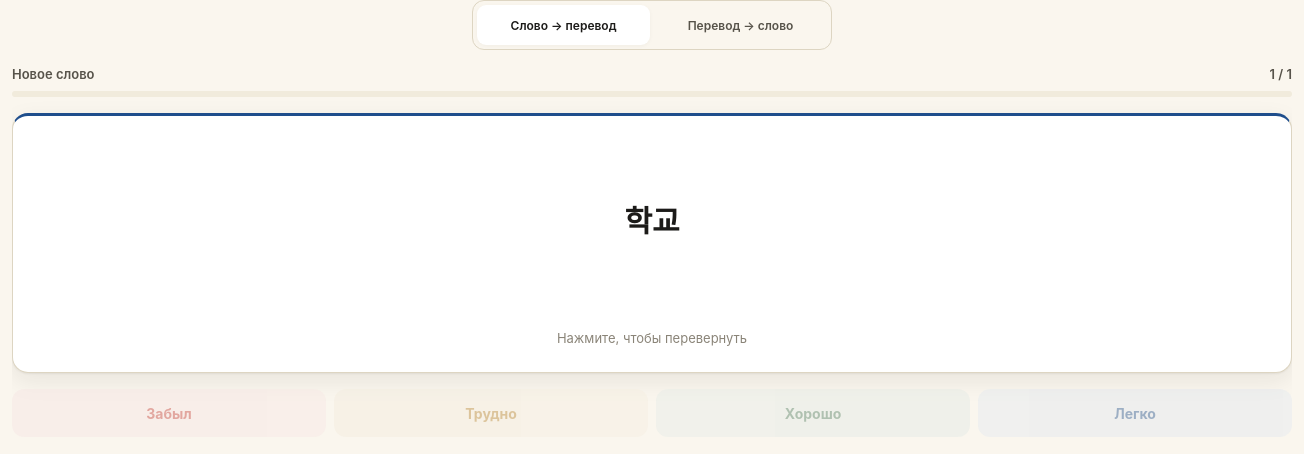
в обратном направлении скрывает слово до переворота
Click the button "Перевод → слово". click: (740, 25)
box: [654,5,827,45]
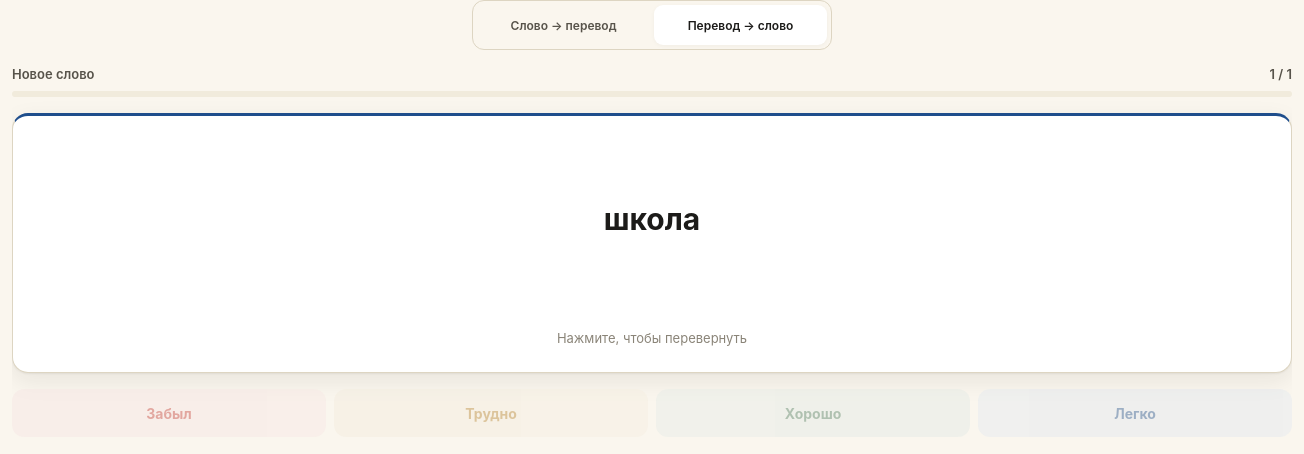
Now the text "школа" is shown, box [604,201,700,237]
Now the button "학교" is gone
Click the button with aria-label "Показать ответ". click: (652, 243)
box: [12,113,1292,373]
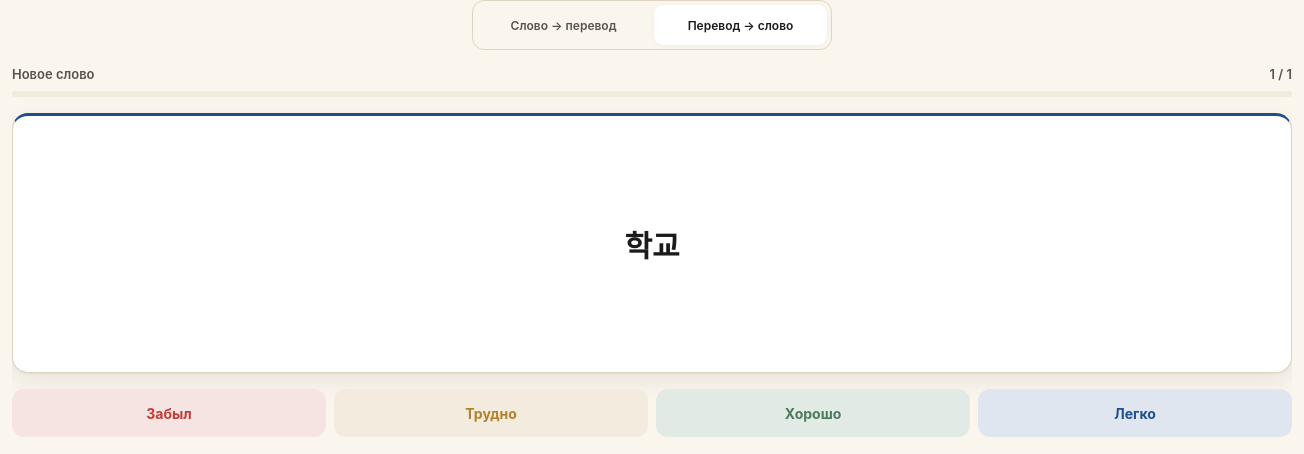
Now the text "학교" is shown, box [624,226,680,262]
